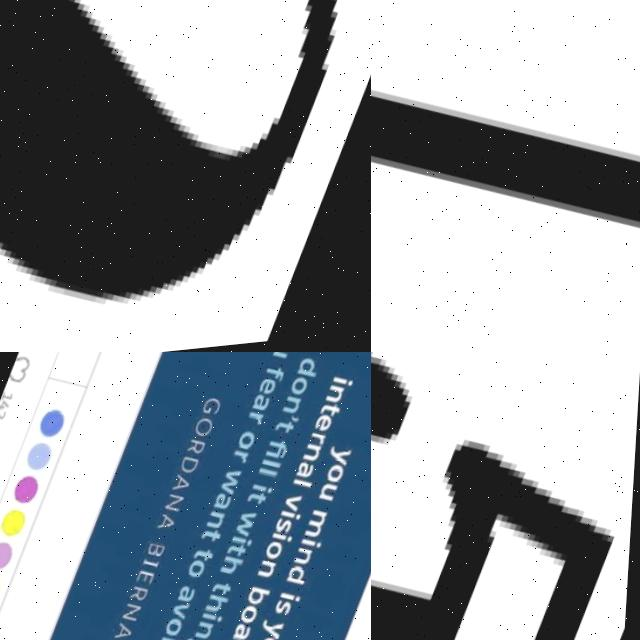0: (0, 397, 13, 411)
2: (0, 0, 371, 352)
5: (371, 352, 640, 640)
L: (371, 0, 640, 352)
